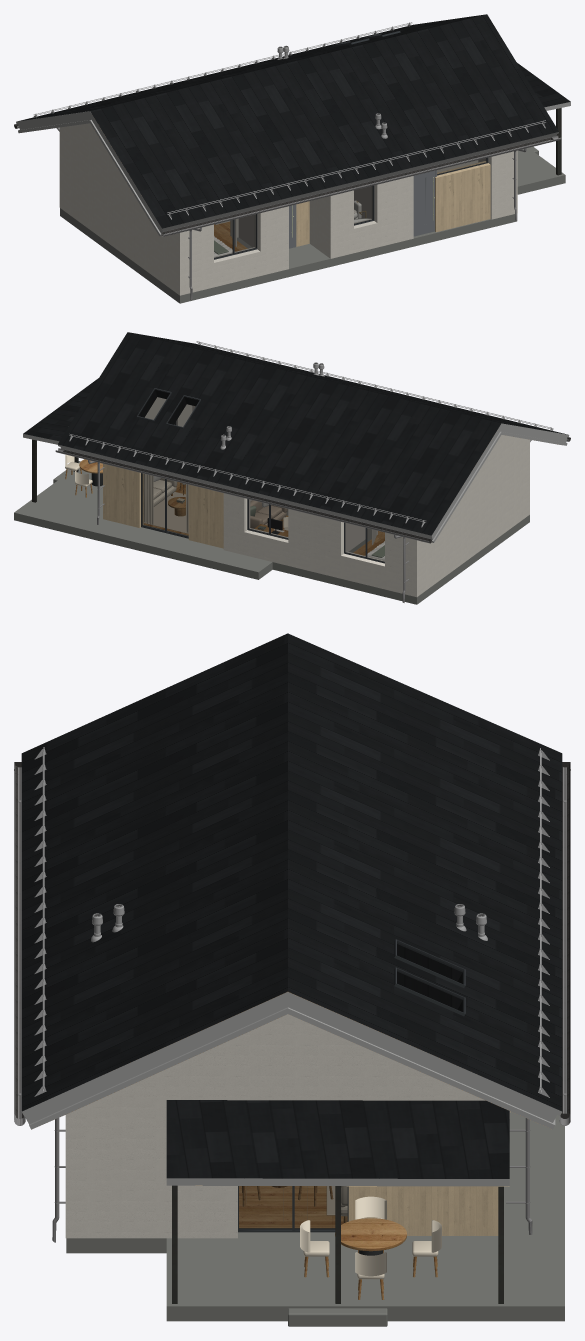
The model's file is Opal_Base.glb.
The picture shows the model from 3 angles, top to bottom: view 1: azimuth 30°, elevation 25°; view 2: azimuth 150°, elevation 25°; view 3: azimuth 270°, elevation 25°; orthographic projection. The views are drawn at different scales.
Visible parts, largest first — view 1: ROOF_MAIN__ROOF_COVER, HOUSE_FIXED__FACADE_MAIN, HOUSE_FIXED__PLINTH, HOUSE_FIXED__FACADE_ACCENT, ROOF_MAIN__ROOF_EDGES, HOUSE_FIXED__WINDOW_GLASS, ROOF_MAIN__MaterialView0.020, ROOF_MAIN__DRAINAGE, HOUSE_FIXED__MaterialView19, TERRACE_BASE__PLINTH, ROOF_MAIN__MaterialView48, HOUSE_FIXED__INTERIOR_WarmWhite (+3 smaller); view 2: ROOF_MAIN__ROOF_COVER, HOUSE_FIXED__FACADE_MAIN, TERRACE_BASE__PLINTH, HOUSE_FIXED__WINDOW_GLASS, HOUSE_FIXED__FACADE_ACCENT, ROOF_MAIN__ROOF_EDGES, HOUSE_FIXED__PLINTH, ROOF_MAIN__MaterialView0.020, ROOF_MAIN__DRAINAGE, HOUSE_FIXED__INTERIOR_WarmWhite, TERRACE_CANOPY__ROOF_COVER, ROOF_MAIN__MaterialView48 (+9 smaller); view 3: ROOF_MAIN__ROOF_COVER, TERRACE_BASE__PLINTH, HOUSE_FIXED__FACADE_MAIN, TERRACE_CANOPY__ROOF_COVER, ROOF_MAIN__ROOF_EDGES, HOUSE_FIXED__FACADE_ACCENT, ROOF_MAIN__DRAINAGE, ROOF_MAIN__MaterialView48, HOUSE_FIXED__WINDOW_GLASS, ROOM_LIVING_KITCHEN__INTERIOR_NaturalOak, ROOF_MAIN__MaterialView0.020, TERRACE_FURNITURE__INTERIOR_Linen (+7 smaller).
Part boxes in pixels (left/top/right/bottom): ROOF_MAIN__ROOF_COVER: left=18, top=14, right=558, bottom=228; HOUSE_FIXED__FACADE_MAIN: left=59, top=123, right=517, bottom=295; HOUSE_FIXED__PLINTH: left=60, top=208, right=517, bottom=303; HOUSE_FIXED__FACADE_ACCENT: left=296, top=161, right=490, bottom=246; ROOF_MAIN__ROOF_EDGES: left=16, top=111, right=558, bottom=236; HOUSE_FIXED__WINDOW_GLASS: left=214, top=158, right=486, bottom=258; ROOF_MAIN__MaterialView0.020: left=33, top=22, right=545, bottom=219; ROOF_MAIN__DRAINAGE: left=14, top=124, right=561, bottom=299; HOUSE_FIXED__MaterialView19: left=289, top=170, right=436, bottom=248; TERRACE_BASE__PLINTH: left=517, top=146, right=565, bottom=194; ROOF_MAIN__MaterialView48: left=14, top=124, right=553, bottom=236; HOUSE_FIXED__INTERIOR_WarmWhite: left=215, top=158, right=485, bottom=247; ROOF_MAIN__ROOF_COVER: left=58, top=332, right=567, bottom=535; HOUSE_FIXED__FACADE_MAIN: left=176, top=419, right=529, bottom=597; TERRACE_BASE__PLINTH: left=14, top=461, right=272, bottom=579; HOUSE_FIXED__WINDOW_GLASS: left=142, top=473, right=384, bottom=561; HOUSE_FIXED__FACADE_ACCENT: left=103, top=464, right=223, bottom=548; ROOF_MAIN__ROOF_EDGES: left=57, top=423, right=569, bottom=542; HOUSE_FIXED__PLINTH: left=99, top=515, right=529, bottom=604; ROOF_MAIN__MaterialView0.020: left=69, top=341, right=553, bottom=527; ROOF_MAIN__DRAINAGE: left=55, top=437, right=570, bottom=602; HOUSE_FIXED__INTERIOR_WarmWhite: left=145, top=397, right=384, bottom=566; TERRACE_CANOPY__ROOF_COVER: left=23, top=378, right=98, bottom=441; ROOF_MAIN__MaterialView48: left=63, top=437, right=570, bottom=543; ROOF_MAIN__ROOF_COVER: left=21, top=633, right=562, bottom=1111; TERRACE_BASE__PLINTH: left=166, top=1111, right=564, bottom=1326; HOUSE_FIXED__FACADE_MAIN: left=65, top=1014, right=509, bottom=1238; TERRACE_CANOPY__ROOF_COVER: left=166, top=1100, right=509, bottom=1178; ROOF_MAIN__ROOF_EDGES: left=22, top=992, right=561, bottom=1129; HOUSE_FIXED__FACADE_ACCENT: left=348, top=1111, right=510, bottom=1235; ROOF_MAIN__DRAINAGE: left=14, top=762, right=570, bottom=1242; ROOF_MAIN__MaterialView48: left=14, top=762, right=570, bottom=1118; HOUSE_FIXED__WINDOW_GLASS: left=239, top=1186, right=347, bottom=1229; ROOM_LIVING_KITCHEN__INTERIOR_NaturalOak: left=239, top=1186, right=347, bottom=1228; ROOF_MAIN__MaterialView0.020: left=34, top=747, right=549, bottom=1097; TERRACE_FURNITURE__INTERIOR_Linen: left=300, top=1196, right=441, bottom=1279.
Bounding box in the file's own units: 17.3 × 5.75 × 10.05.
Materials: 41 (10 with a texture image).
